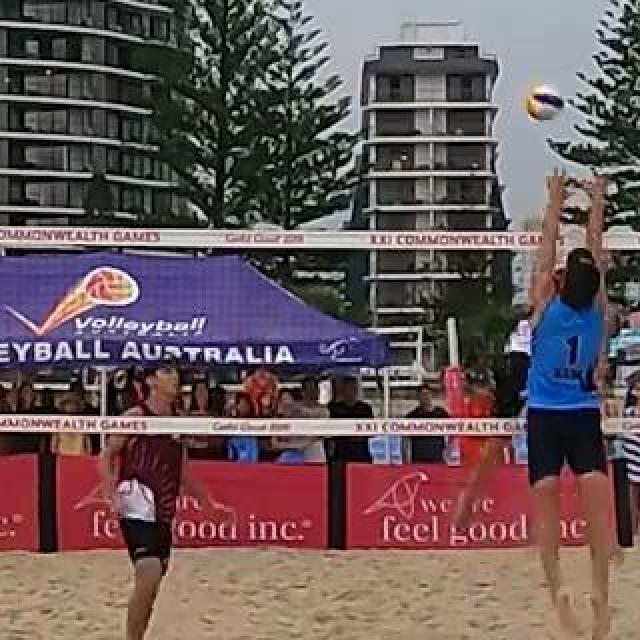volleyball: (520, 84, 562, 124)
